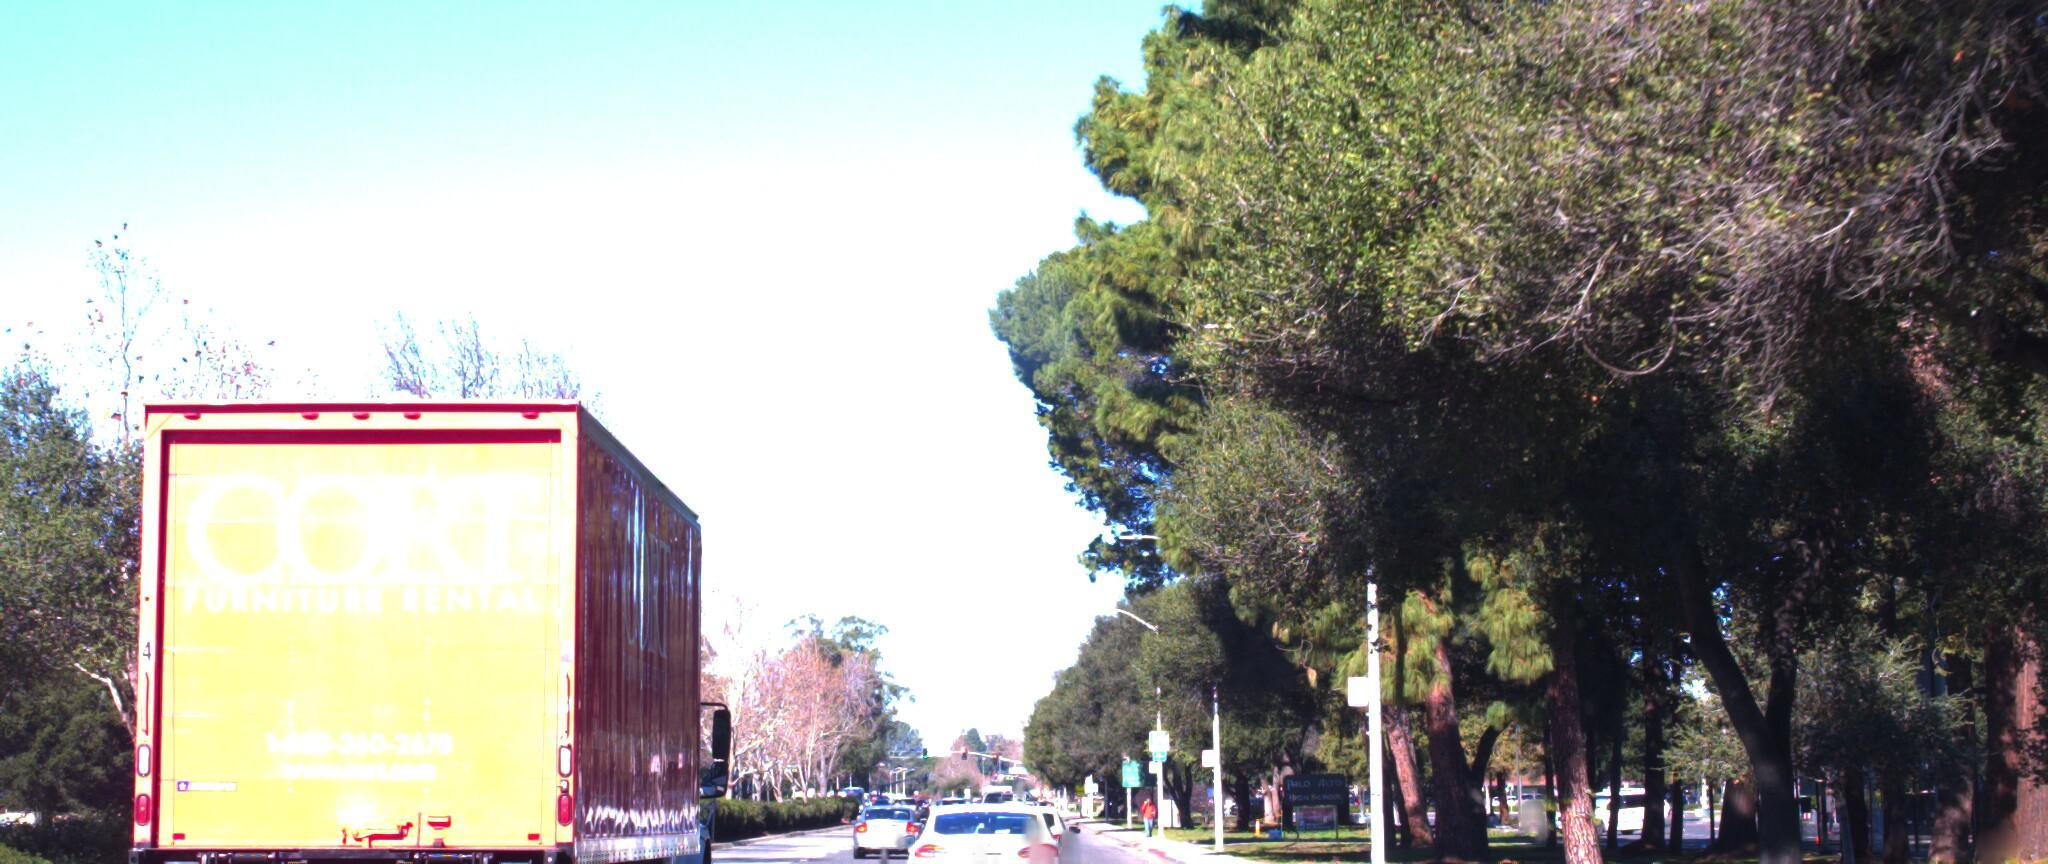car: (893, 780, 1078, 864), (848, 777, 930, 837)
truck: (86, 342, 778, 864)
